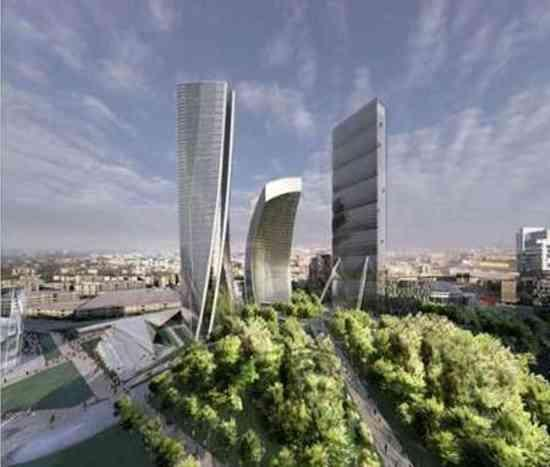building: (173, 79, 242, 344), (330, 96, 391, 317)
